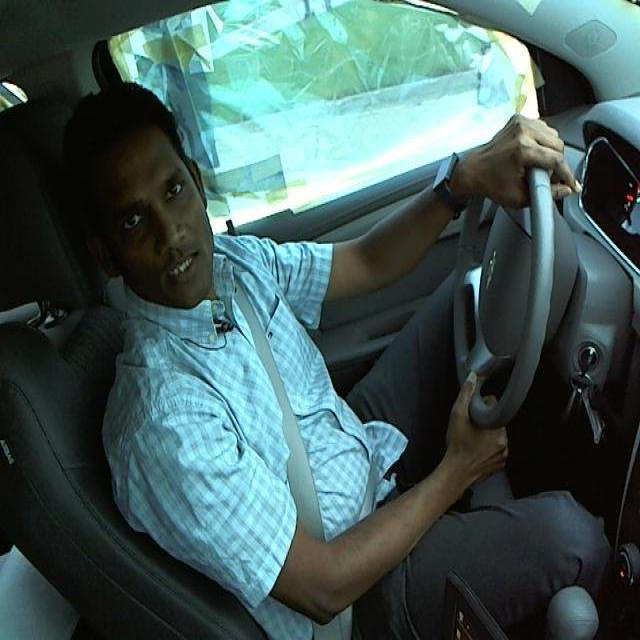seatbelt: (243, 287, 385, 532)
